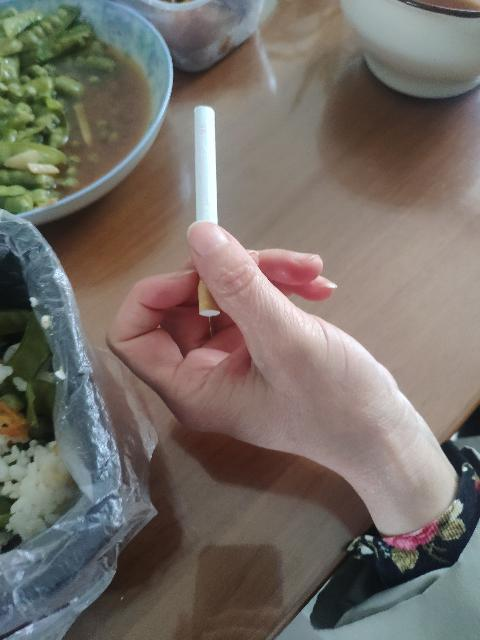Smoking: (194, 106, 222, 318)
